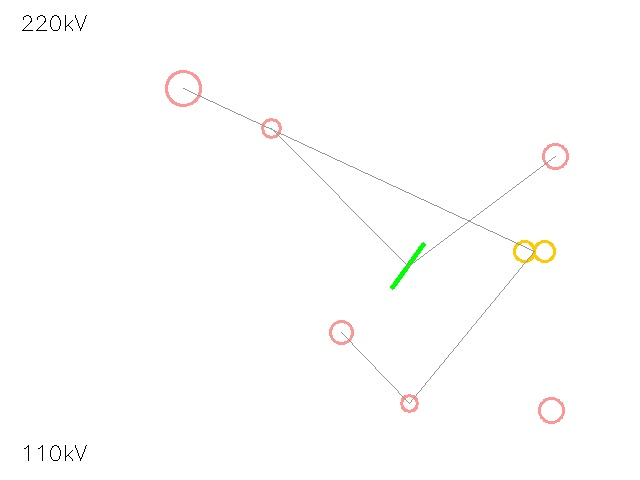busbar: (375, 233, 441, 299)
current_transformer: (149, 54, 217, 122)
disconnect_switch: (253, 110, 289, 146)
feeder_terminal: (319, 310, 363, 354)
fuse: (530, 131, 580, 181)
reactor: (526, 385, 576, 435)
surge_arrester: (393, 387, 425, 419)
transformer_2w: (509, 226, 559, 276)
